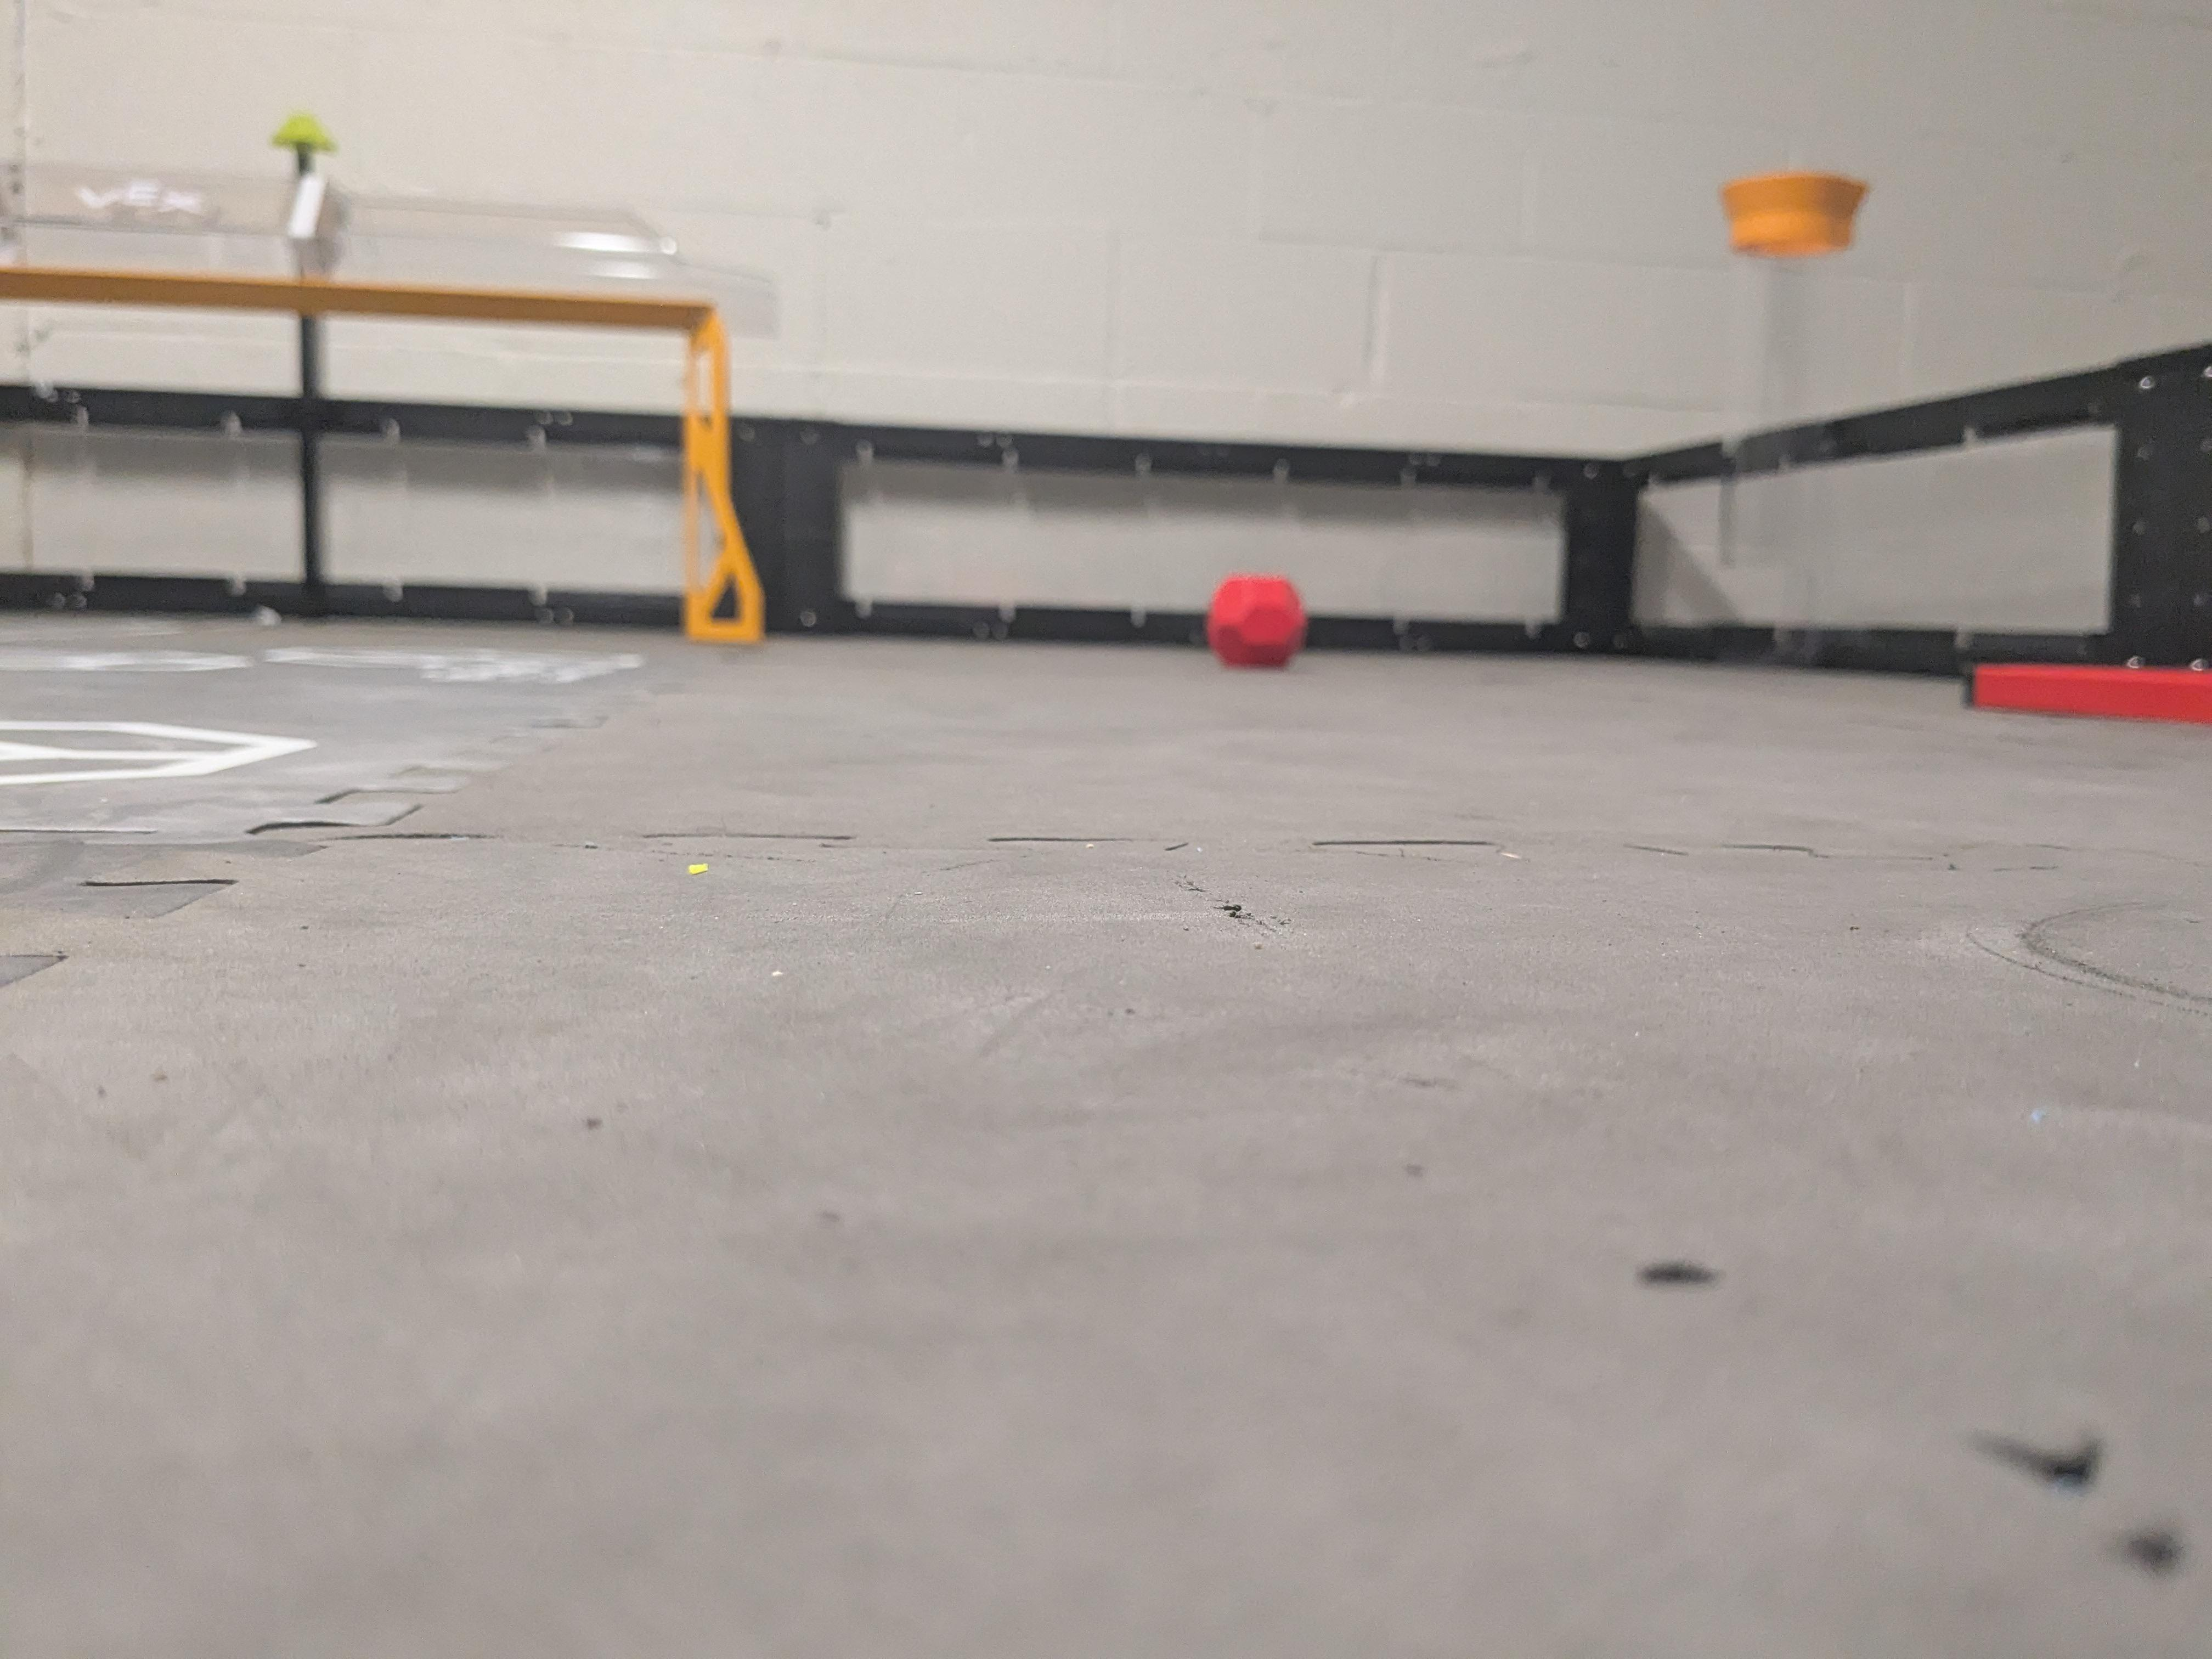Vex-Pieces-RED: (1205, 573, 1306, 667)
